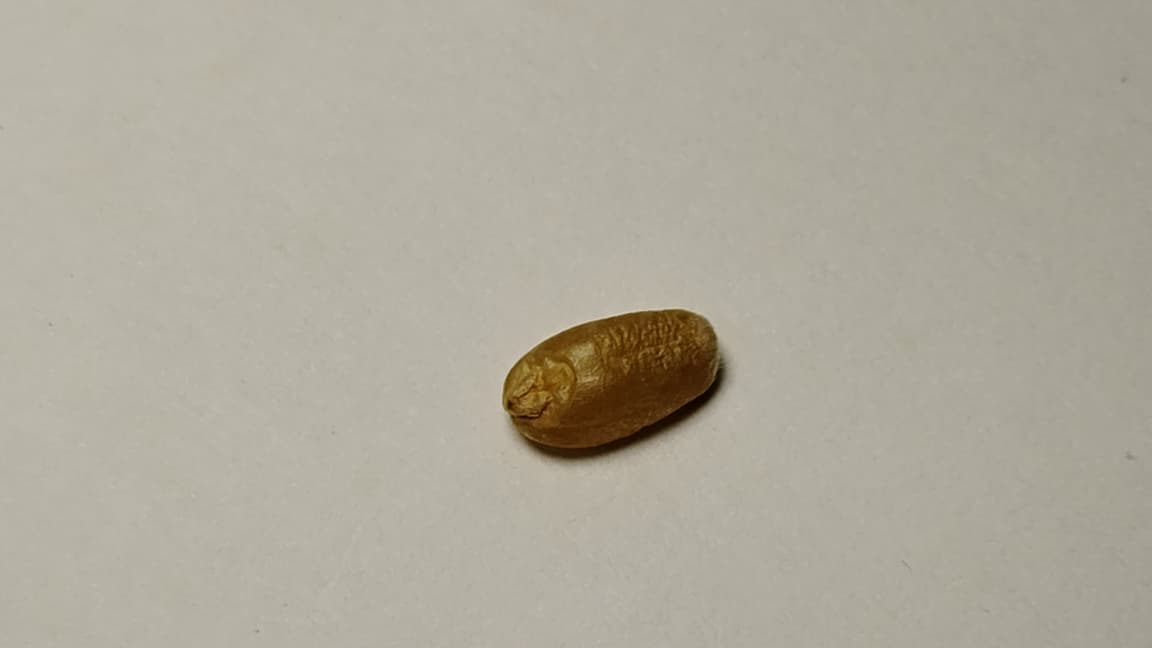healthy: (504, 310, 718, 447)
